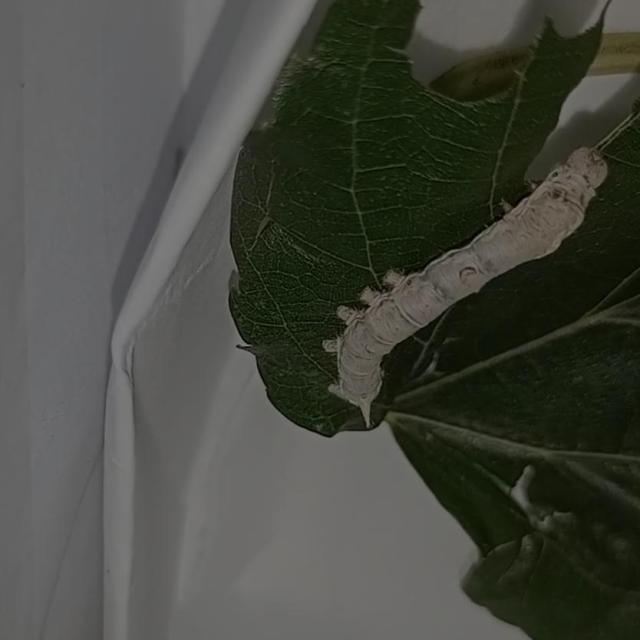Healthy: (313, 124, 609, 439)
